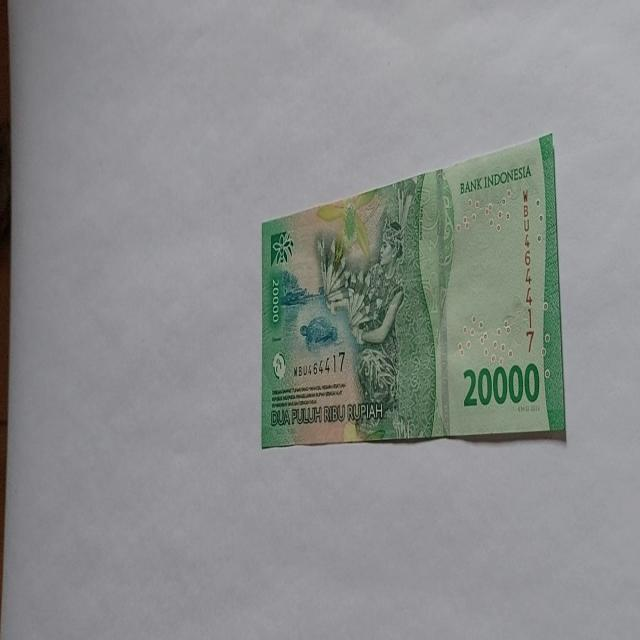dua puluh ribu rupiah: (260, 132, 566, 448)
